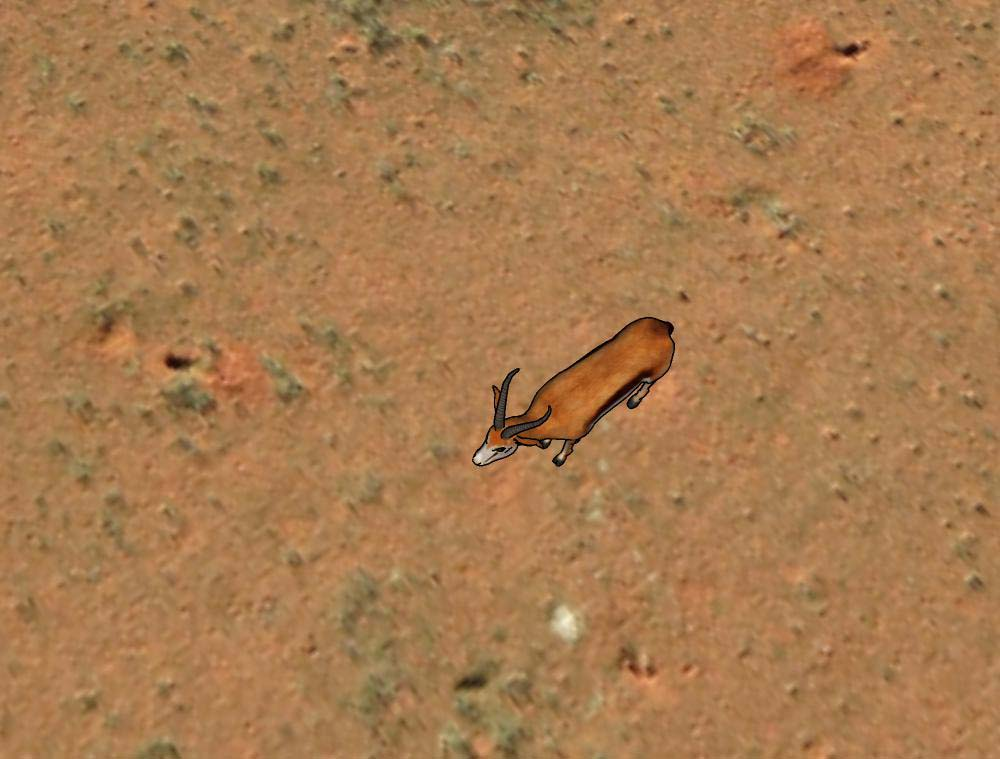springbok: (473, 313, 676, 475)
